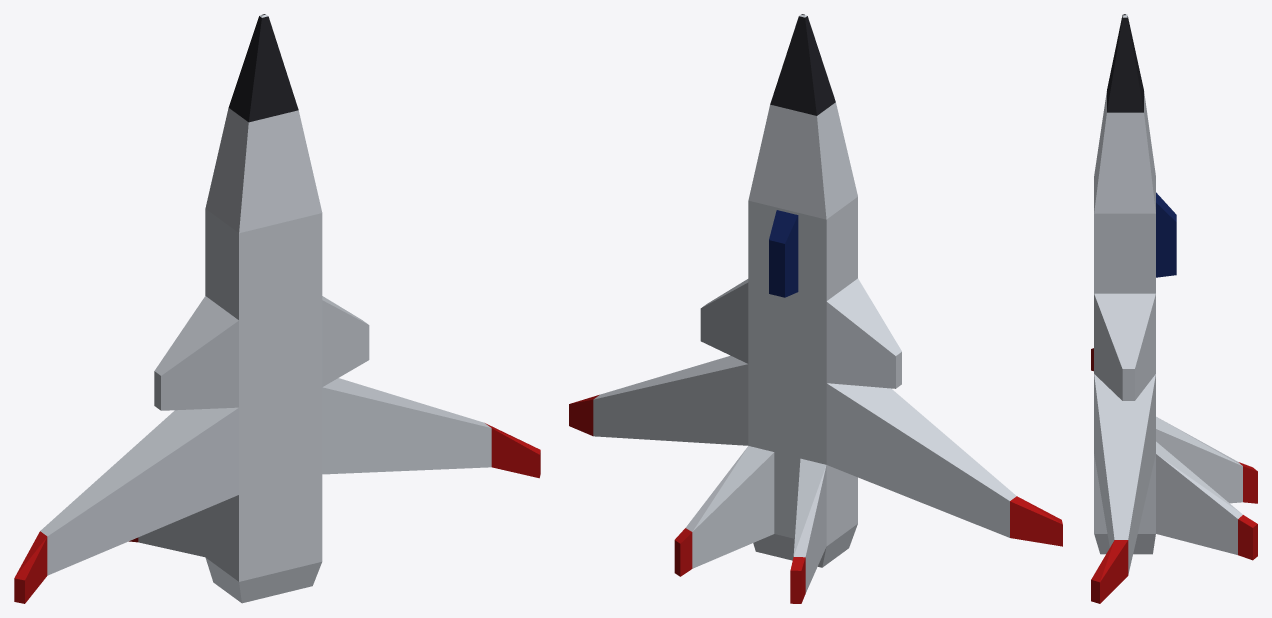
File: nave.obj
3 renders of one model, left to right at view 1: azimuth 30°, elevation 25°; view 2: azimuth 150°, elevation 25°; view 3: azimuth 270°, elevation 25°, orthographic. The views are drawn at different scales.
Visible parts, largest first — view 1: Nave; view 2: Nave; view 3: Nave.
Boxes of the visible parts, <box> form: Nave: <box>14,14,540,603</box>; Nave: <box>569,14,1062,603</box>; Nave: <box>1091,14,1257,603</box>.
Size of the model in its own units: 7.58 by 7.85 by 2.26.
